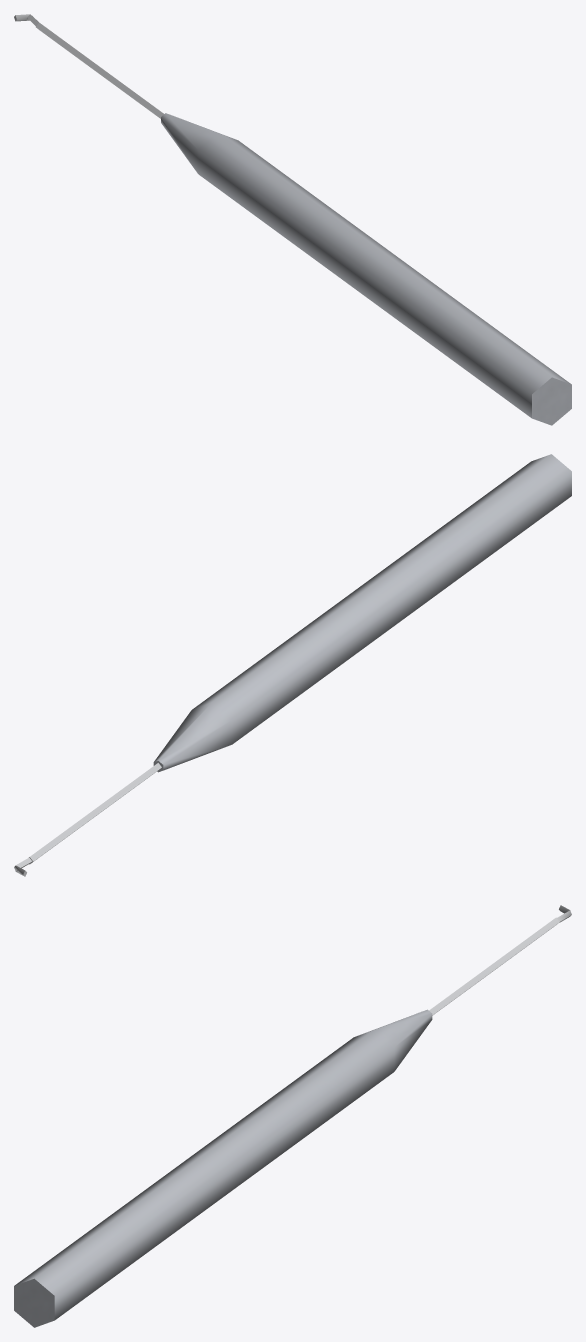
The model's file is micro_hook.glb.
3 views of the same model, one above another, from view 1: azimuth 30°, elevation 25°; view 2: azimuth 150°, elevation 25°; view 3: azimuth 330°, elevation 25° (orthographic).
Visible parts, largest first — view 1: m5_micro_hook; view 2: m5_micro_hook; view 3: m5_micro_hook.
Boxes of the visible parts, x1,y1,x2,y2 form: m5_micro_hook: (14, 14, 571, 425); m5_micro_hook: (14, 454, 571, 876); m5_micro_hook: (14, 905, 571, 1327).
Bounding box in the file's own units: 0.00658 × 0.0076 × 0.1505.
1 material, 1 textured.
